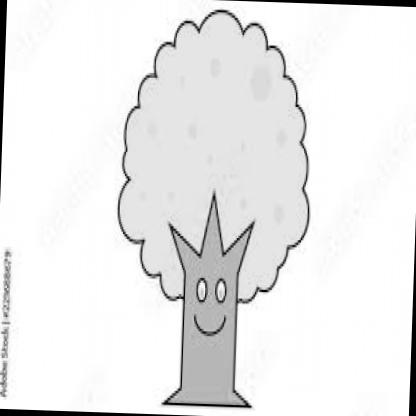branch_sharp: (164, 181, 260, 266)
crown_cloud: (113, 4, 318, 306)
root_only: (157, 383, 256, 415)
trunk_straight: (178, 309, 244, 376)
